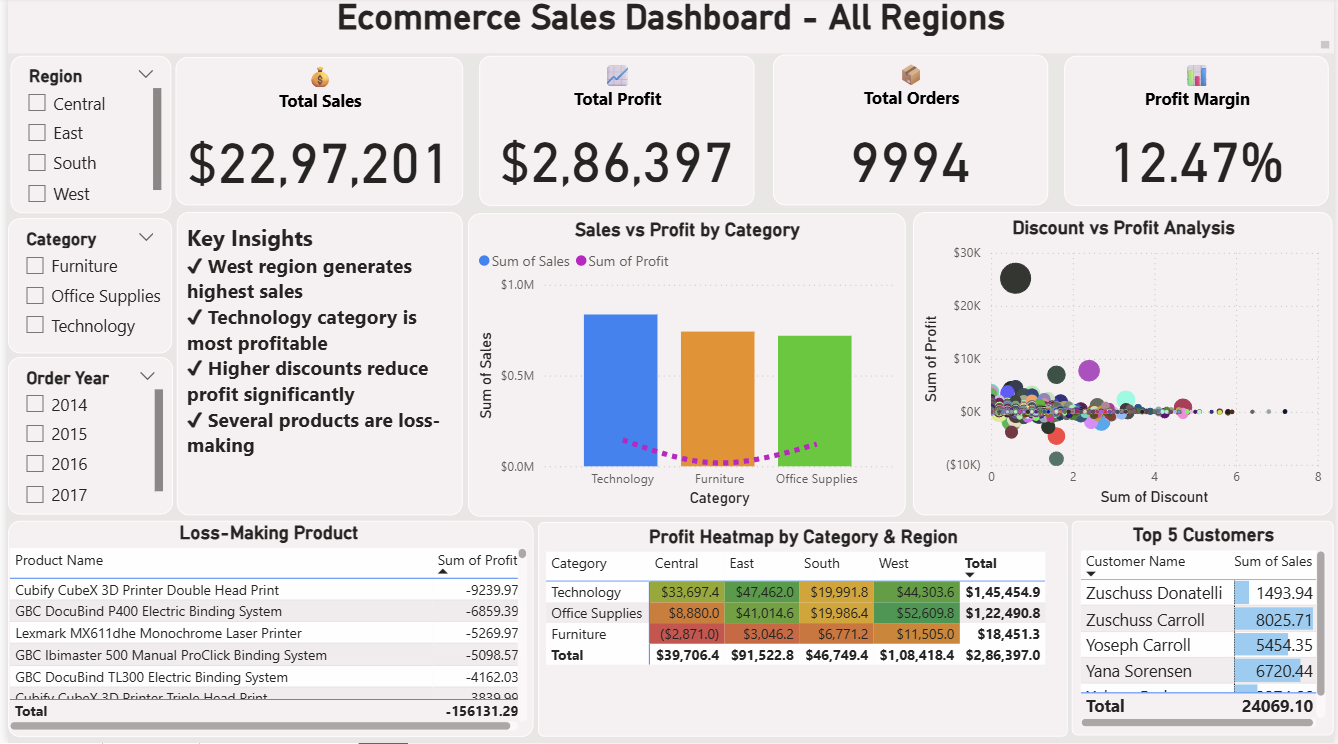

What the dashboard file says about the page in this screenshot:
{"tool":"powerbi","page":{"name":"Main Dashboard","canvas":[1280,720],"ordinal":0},"visuals":[{"type":"card","title":"💰","fields":{"Values":["Sum(ecommerce_cleaned.Sales)"]},"box":[161.7,57.9,277.5,143.6],"z":0},{"type":"card","title":"📈","fields":{"Values":["Sum(ecommerce_cleaned.Profit)"]},"box":[455,56.7,265.4,144.8],"z":1000},{"type":"card","title":"📦","fields":{"Values":["CountNonNull(ecommerce_cleaned.Order ID)"]},"box":[738,55.5,265.4,146],"z":2000},{"type":"textbox","box":[0,0,1280,54.3],"z":3000},{"type":"tableEx","title":"Loss-Making Product","fields":{"Values":["ecommerce_cleaned.Product Name","Sum(ecommerce_cleaned.Profit)"]},"box":[0,505,507,208.6],"z":4000},{"type":"scatterChart","title":"Discount vs Profit Analysis","fields":{"X":["Sum(ecommerce_cleaned.Discount)"],"Y":["Sum(ecommerce_cleaned.Profit)"],"Size":["Sum(ecommerce_cleaned.Sales)"],"Category":["ecommerce_cleaned.Product Name"]},"box":[873,208,405,293.2],"z":5000},{"type":"slicer","fields":{"Values":["ecommerce_cleaned.Region"]},"box":[2,57,155,152],"z":6000},{"type":"slicer","fields":{"Values":["ecommerce_cleaned.Category"]},"box":[0,214,158.1,130],"z":7000},{"type":"slicer","fields":{"Values":["ecommerce_cleaned.Order Year"]},"box":[0,348,159.3,152],"z":8000},{"type":"textbox","box":[162.9,207.5,276,293.2],"z":9000},{"type":"card","title":"📊","fields":{"Values":["ecommerce_cleaned.Profit Margin"]},"box":[1020,57,255,144.8],"z":10000},{"type":"lineClusteredColumnComboChart","title":"Sales vs Profit by Category","fields":{"Category":["ecommerce_cleaned.Category"],"Y":["Sum(ecommerce_cleaned.Sales)"],"Y2":["Sum(ecommerce_cleaned.Profit)"]},"box":[444,208.7,422,293.2],"z":11000},{"type":"pivotTable","title":"Profit Heatmap by Category & Region","fields":{"Rows":["ecommerce_cleaned.Category"],"Columns":["ecommerce_cleaned.Region"],"Values":["Sum(ecommerce_cleaned.Profit)"]},"box":[511,507,511,207.2],"z":12000},{"type":"tableEx","title":"Top 5 Customers","fields":{"Values":["ecommerce_cleaned.Customer Name","Sum(ecommerce_cleaned.Sales)"]},"box":[1027,505.5,253,207.5],"z":14000}]}

Visuals, with their boxes in screenshot pixels (x1, y1, x2, y2), scaled from the page's 1280x720 canvas onto the 1338x744 screenshot:
"💰" card: {"left": 169, "top": 60, "right": 459, "bottom": 208}
"📈" card: {"left": 476, "top": 59, "right": 753, "bottom": 208}
"📦" card: {"left": 771, "top": 57, "right": 1049, "bottom": 208}
textbox: {"left": 0, "top": 0, "right": 1337, "bottom": 56}
"Loss-Making Product" tableEx: {"left": 0, "top": 522, "right": 530, "bottom": 737}
"Discount vs Profit Analysis" scatterChart: {"left": 913, "top": 215, "right": 1336, "bottom": 518}
slicer - ecommerce_cleaned.Region: {"left": 2, "top": 59, "right": 164, "bottom": 216}
slicer - ecommerce_cleaned.Category: {"left": 0, "top": 221, "right": 165, "bottom": 355}
slicer - ecommerce_cleaned.Order Year: {"left": 0, "top": 360, "right": 167, "bottom": 517}
textbox: {"left": 170, "top": 214, "right": 459, "bottom": 517}
"📊" card: {"left": 1066, "top": 59, "right": 1333, "bottom": 209}
"Sales vs Profit by Category" lineClusteredColumnComboChart: {"left": 464, "top": 216, "right": 905, "bottom": 519}
"Profit Heatmap by Category & Region" pivotTable: {"left": 534, "top": 524, "right": 1068, "bottom": 738}
"Top 5 Customers" tableEx: {"left": 1074, "top": 522, "right": 1337, "bottom": 737}
